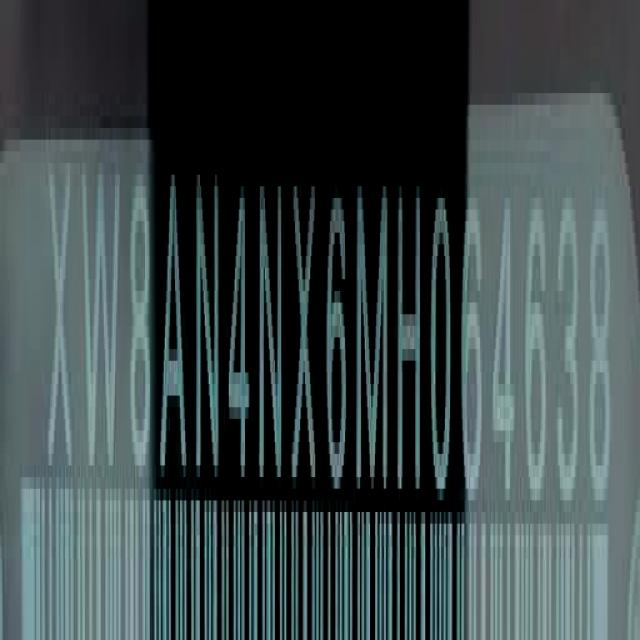0: (430, 182, 456, 511)
3: (555, 199, 581, 514)
4: (493, 192, 520, 518), (228, 165, 252, 488)
6: (459, 188, 484, 511), (324, 179, 349, 501), (525, 195, 550, 515)
8: (130, 164, 156, 484), (590, 202, 616, 512)
A: (160, 160, 187, 486)
H: (397, 177, 425, 506)
M: (354, 177, 392, 500)
N: (195, 165, 223, 490), (260, 173, 285, 493)
W: (82, 155, 124, 483)
X: (44, 160, 74, 482), (293, 175, 320, 500)
